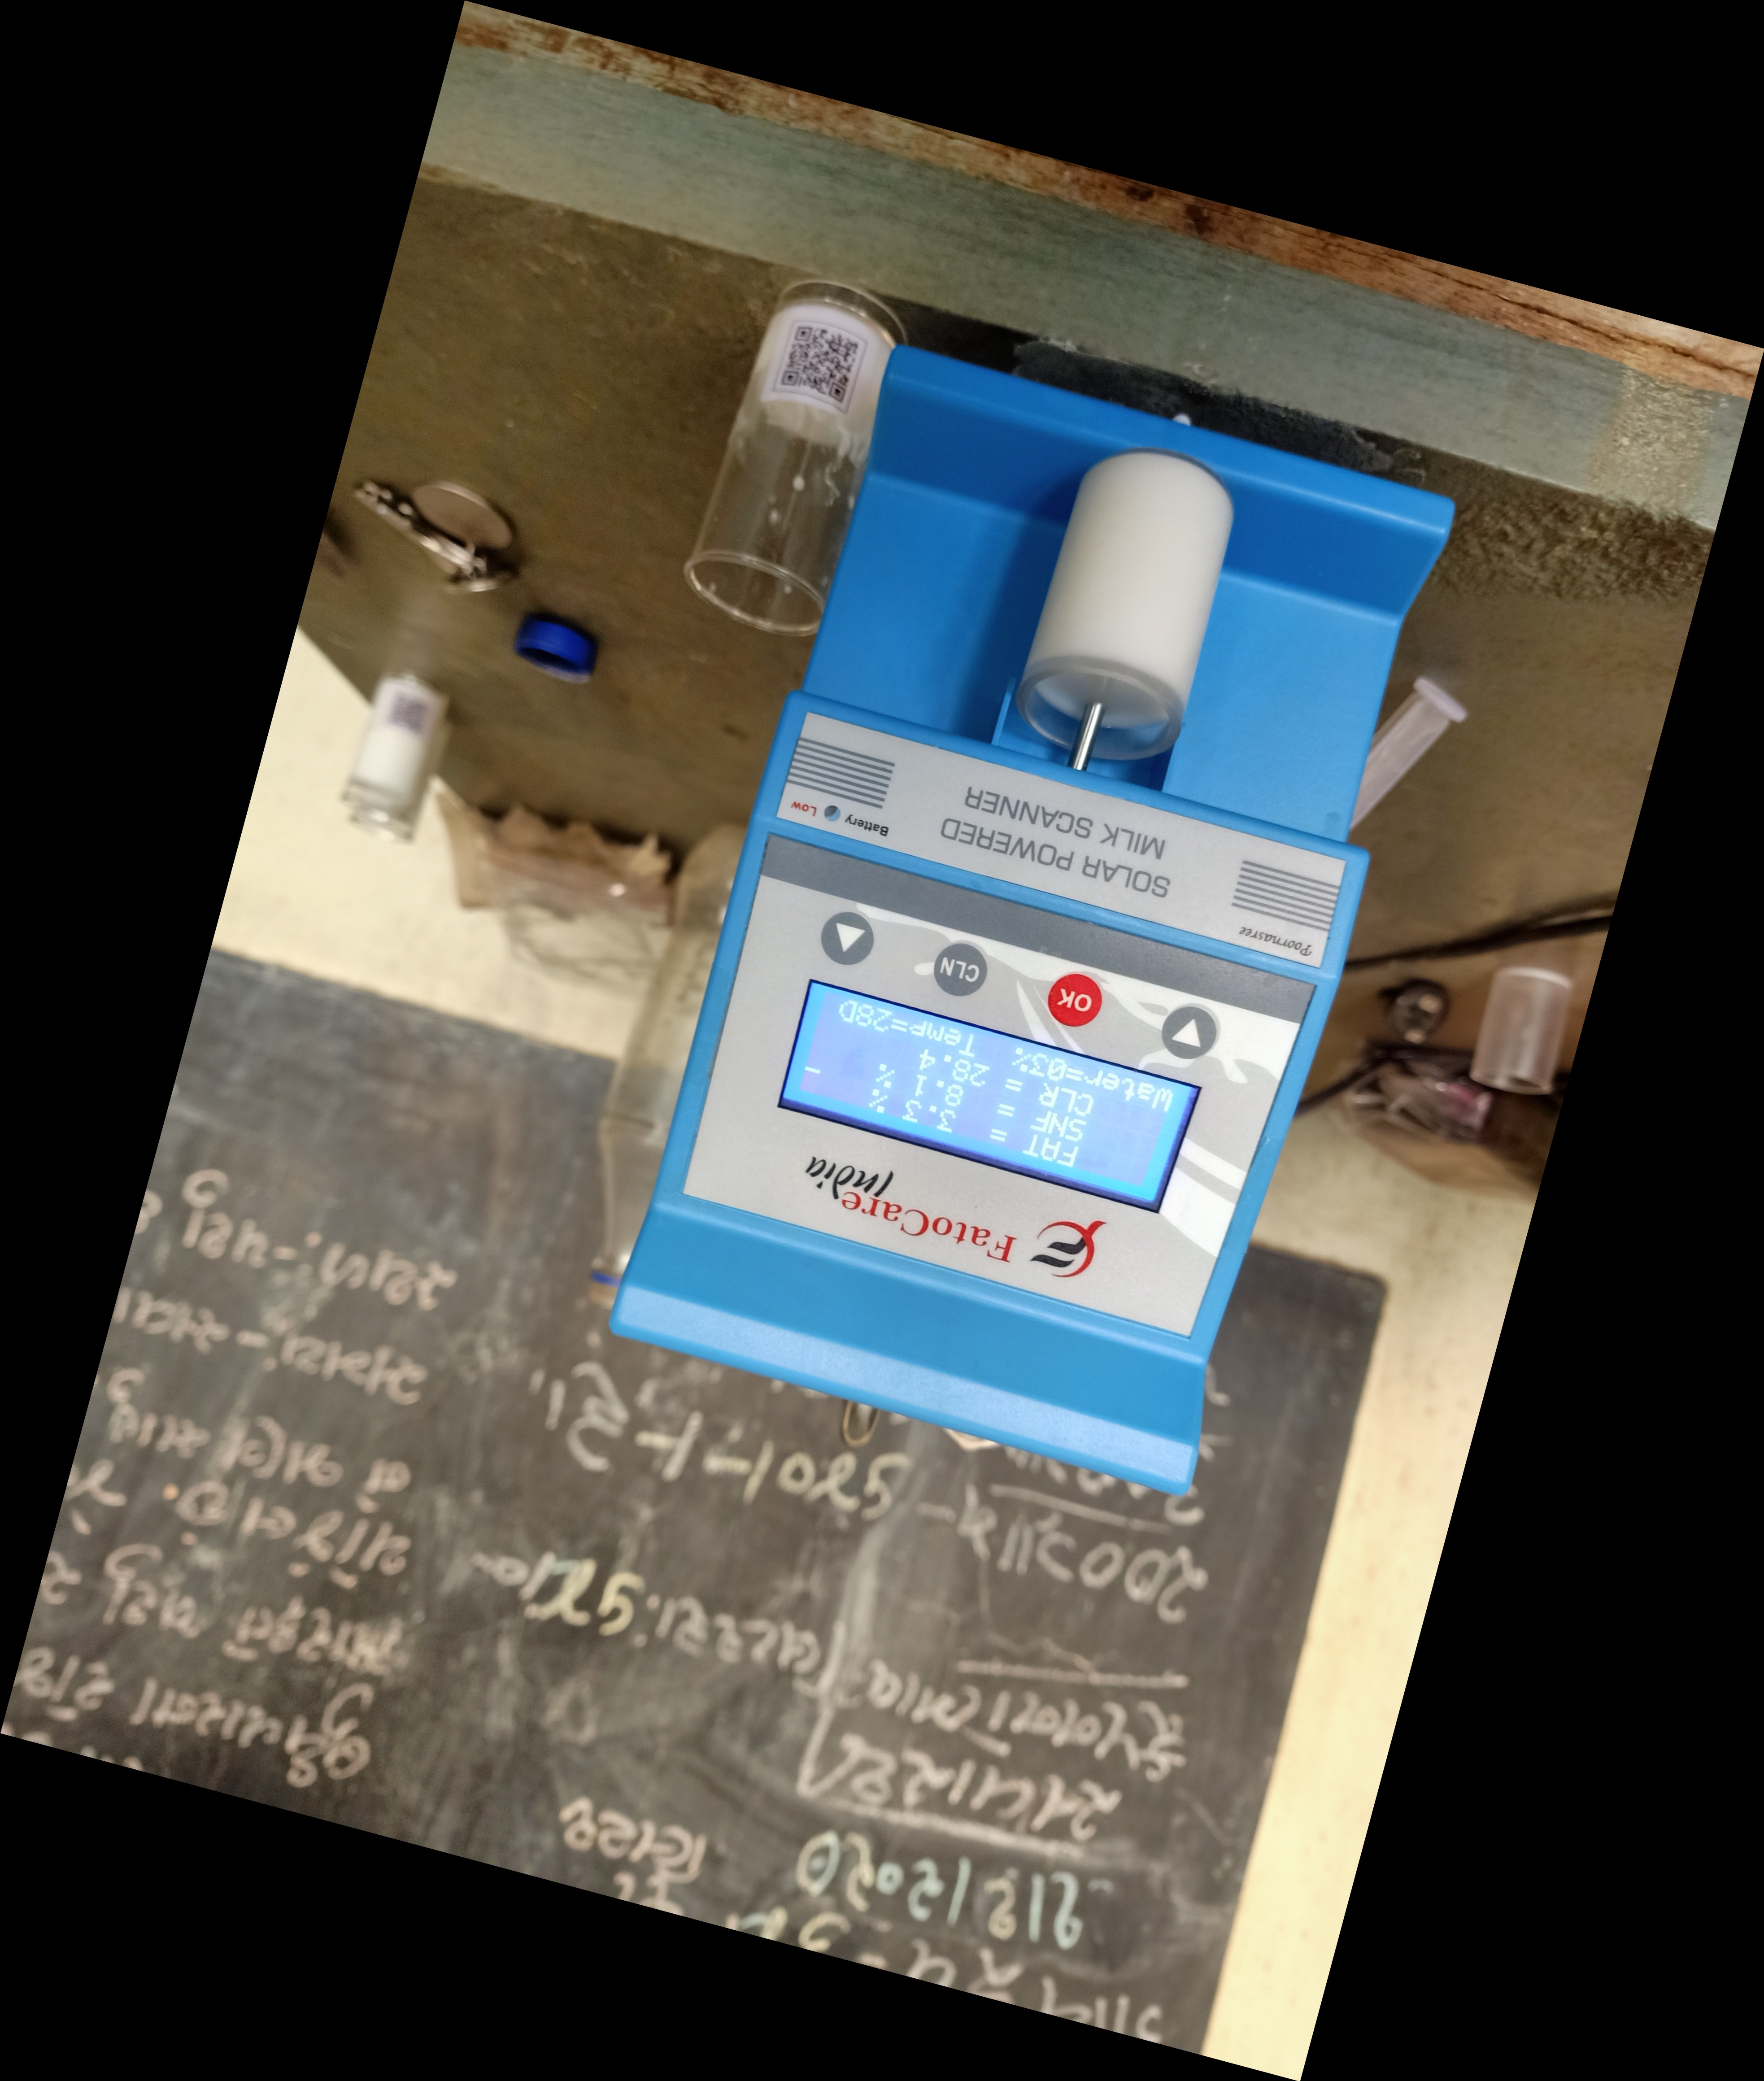lcd: (756, 961, 1223, 1227)
qr: (756, 306, 884, 432)
